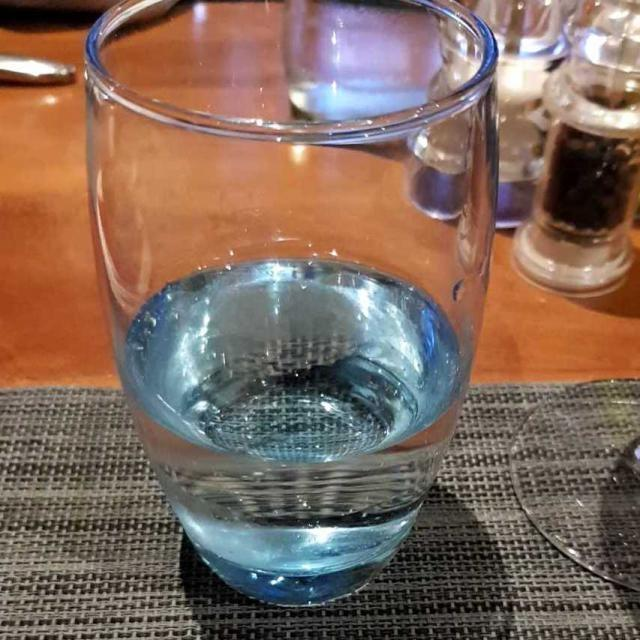water: (126, 286, 454, 602)
